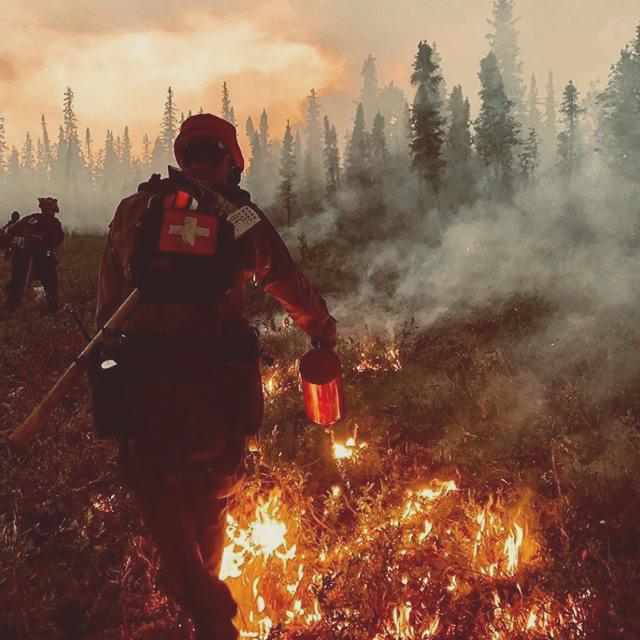Fire: (213, 487, 322, 637), (399, 471, 460, 544), (476, 512, 526, 575), (262, 366, 285, 398), (331, 435, 360, 458)
